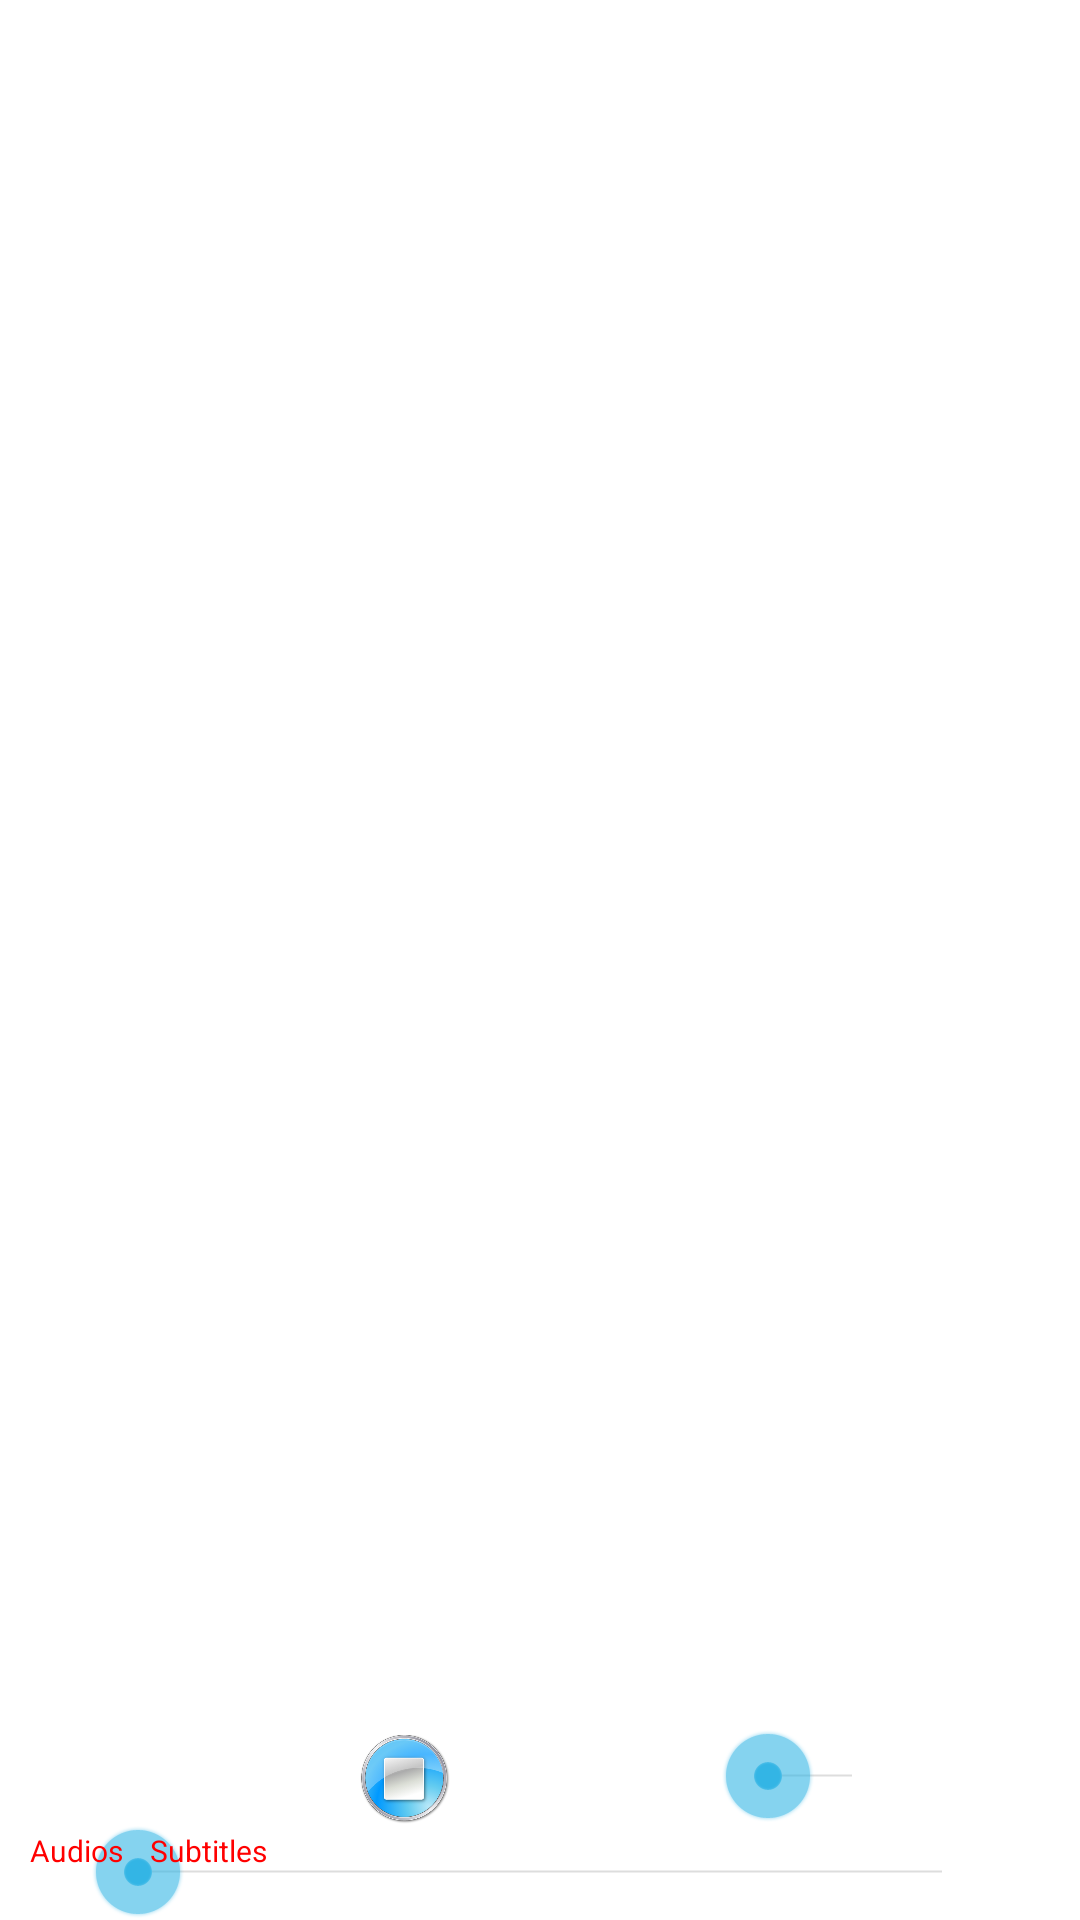

Icons on this 1080 × 1920 Android screen, each with its box as (x1, y1, x2, y2):
stop: (361, 1735, 449, 1822)
